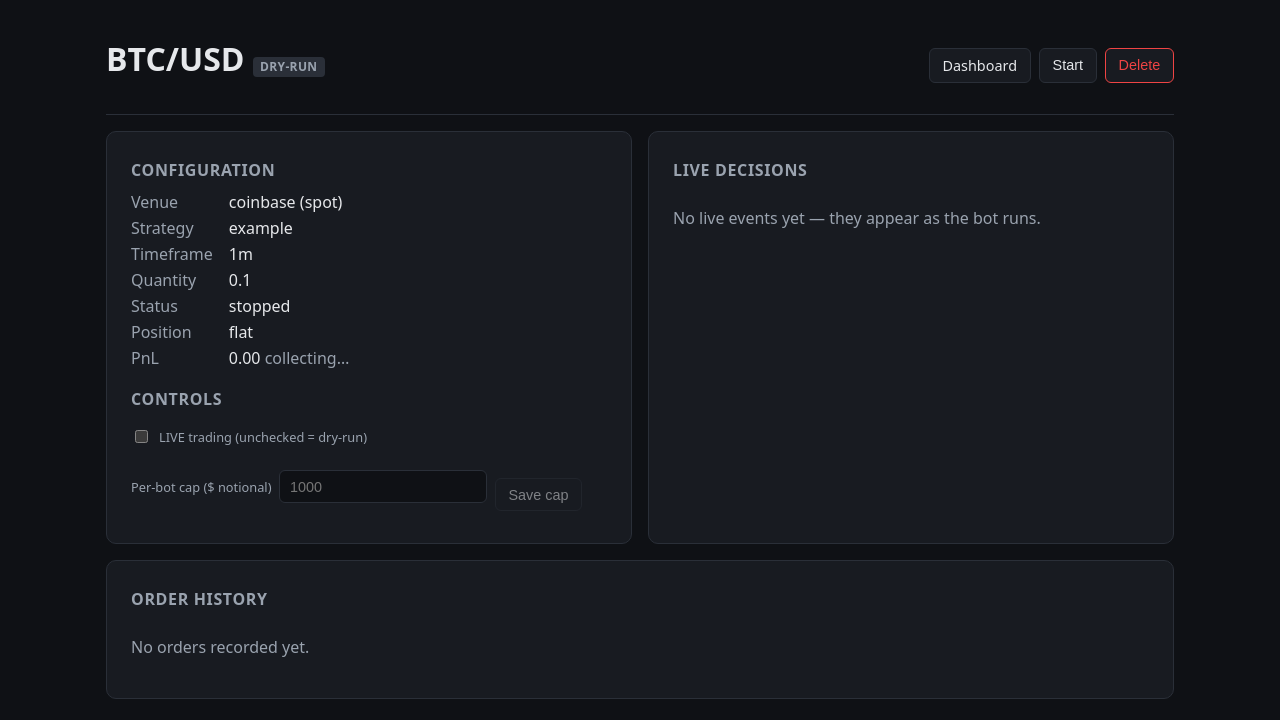
Test case: BotDetail config is immutable while running (#109) › surfaces a rejected configuration change to the operator
Expected: the heading "BTC/USD DRY-RUN" is shown, x1=106 y1=37 x2=325 y2=80
Click the checkbox labelled "LIVE trading (unchecked = dry-run)": (142, 437) x1=135 y1=430 x2=148 y2=443
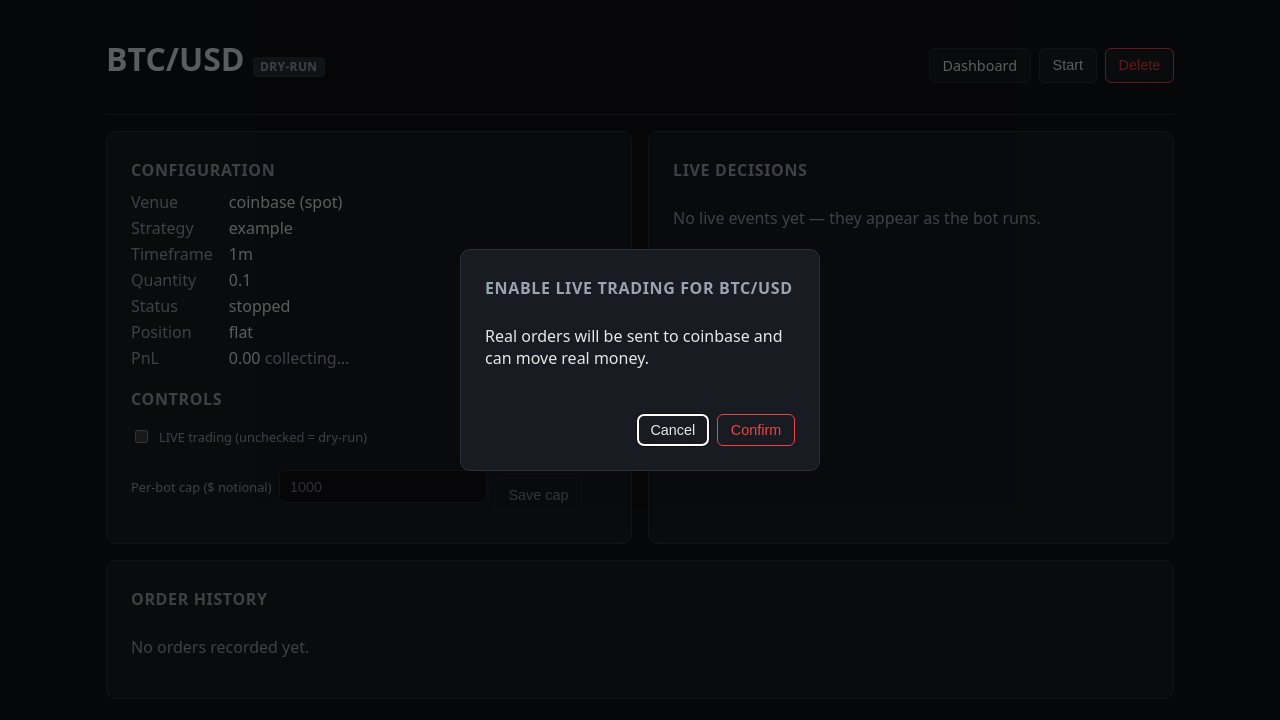
Click the button "Confirm": (756, 430) x1=717 y1=414 x2=795 y2=446
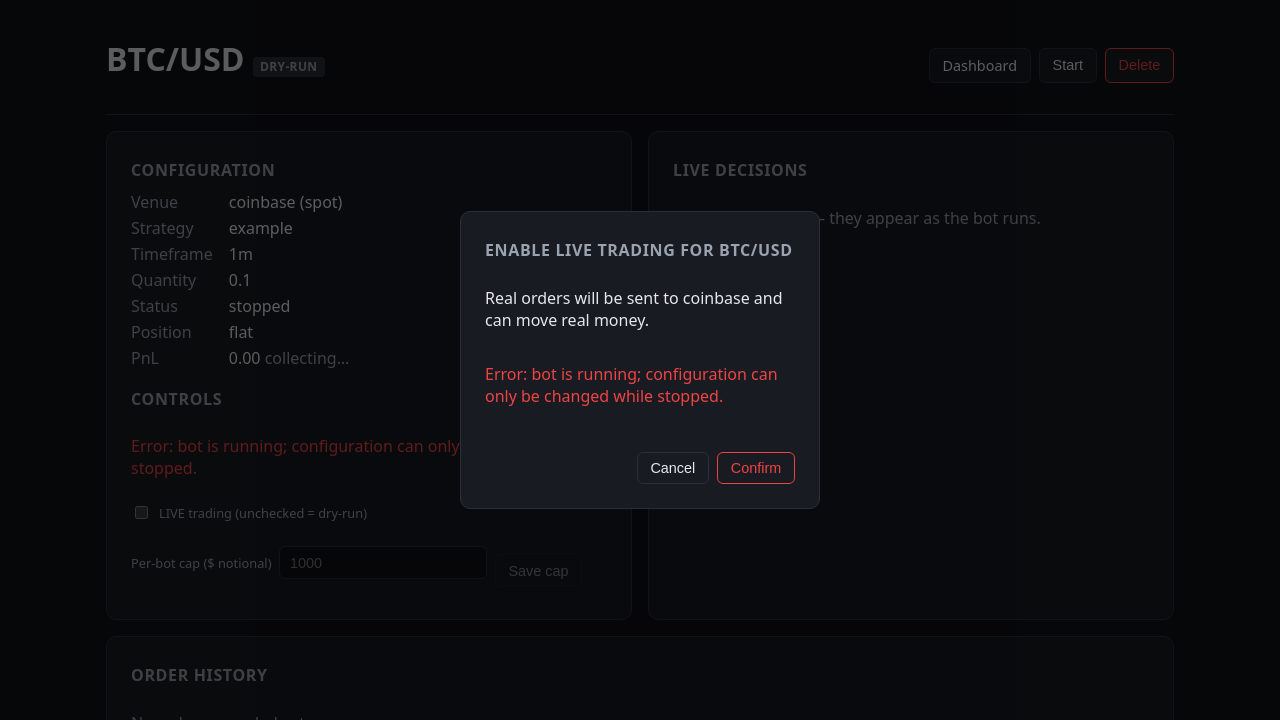
Expected: the message shows "configuration can only be changed", x1=485 y1=363 x2=778 y2=407
